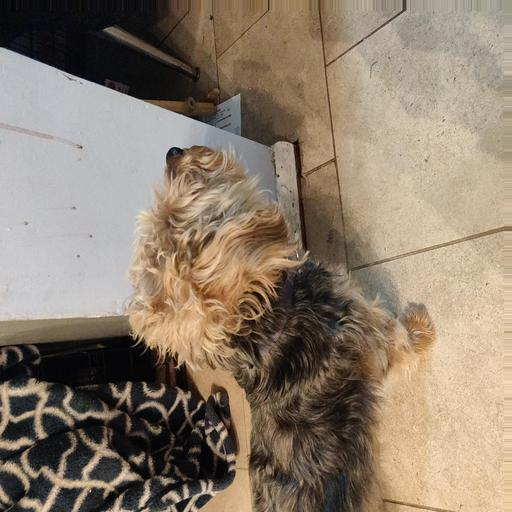dog: (107, 146, 434, 473)
